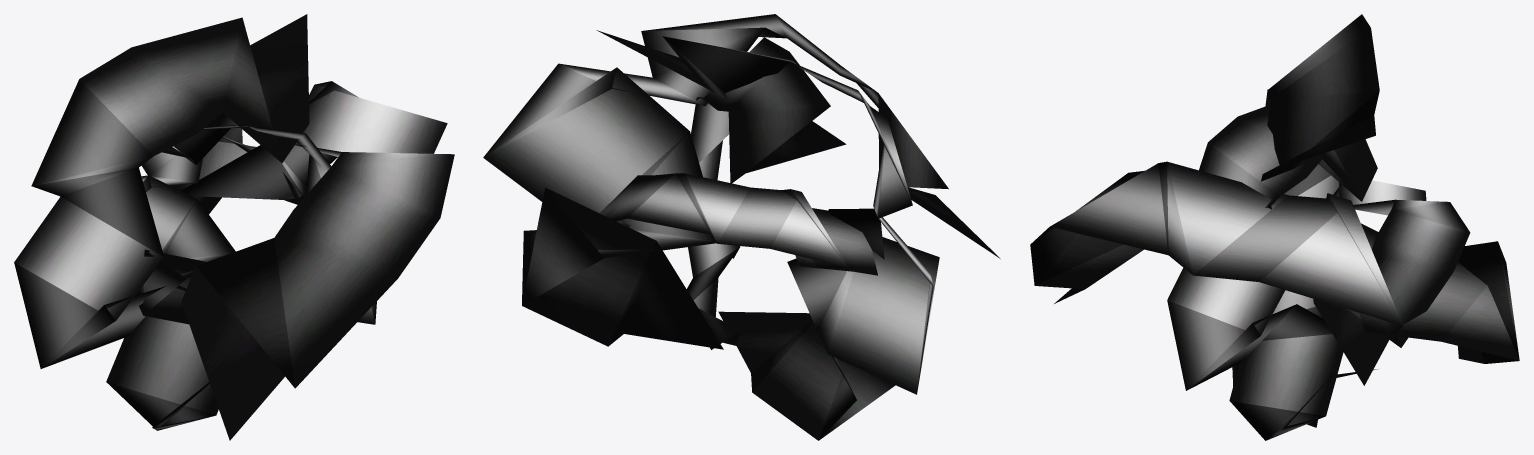
File: vfx_kurp_0309.dae
The picture shows the model from 3 angles, left to right: view 1: azimuth 30°, elevation 25°; view 2: azimuth 150°, elevation 25°; view 3: azimuth 270°, elevation 25°; orthographic projection. The views are drawn at different scales.
Parts seen in each view (by area): view 1: vfx_kurp_0309; view 2: vfx_kurp_0309; view 3: vfx_kurp_0309.
Boxes of the visible parts, x1,y1,x2,y2 form: vfx_kurp_0309: (14, 14, 454, 440); vfx_kurp_0309: (483, 14, 1000, 440); vfx_kurp_0309: (1030, 14, 1519, 440).
Size of the model in its own units: 8.9 by 8.8 by 7.93.
1 material, 1 textured.
